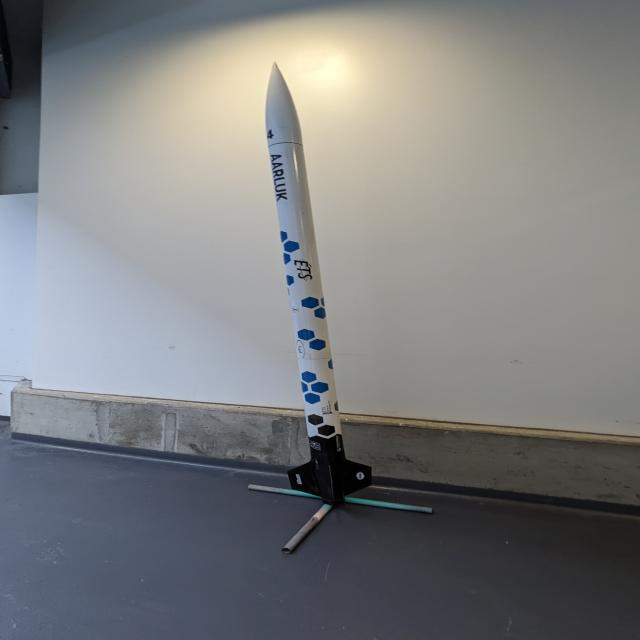Rocket: (265, 61, 372, 504)
